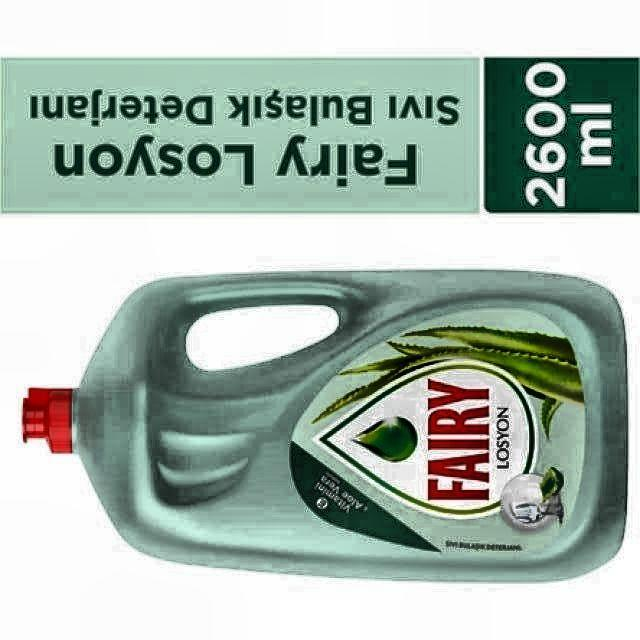plastic: (24, 270, 628, 581)
